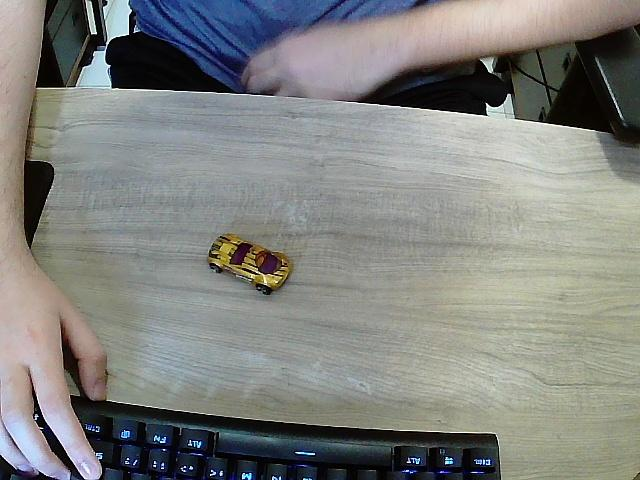Carro: (207, 235, 293, 296)
